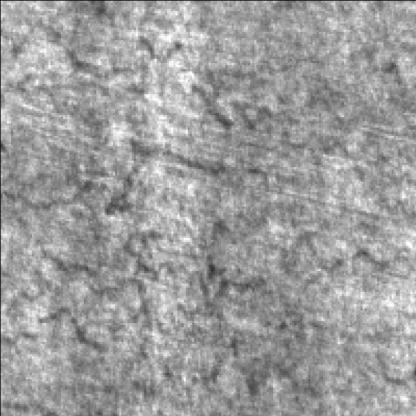crazing: (4, 13, 316, 212), (164, 200, 416, 389), (4, 220, 175, 356)
